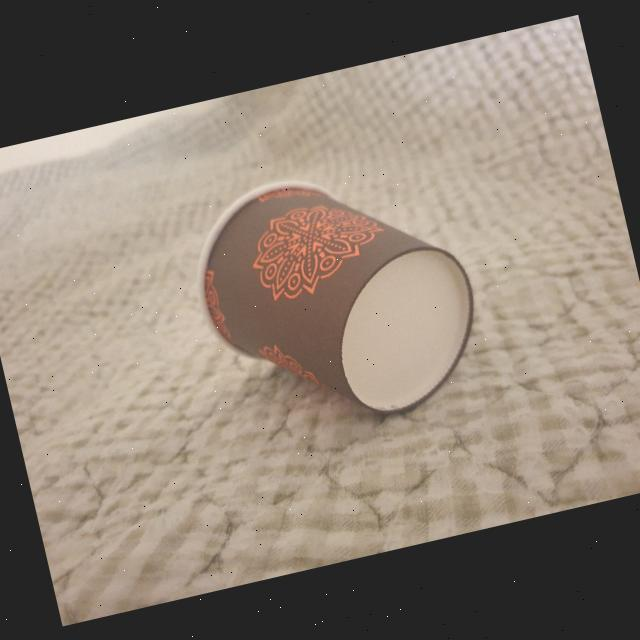trash: (168, 132, 507, 459)
